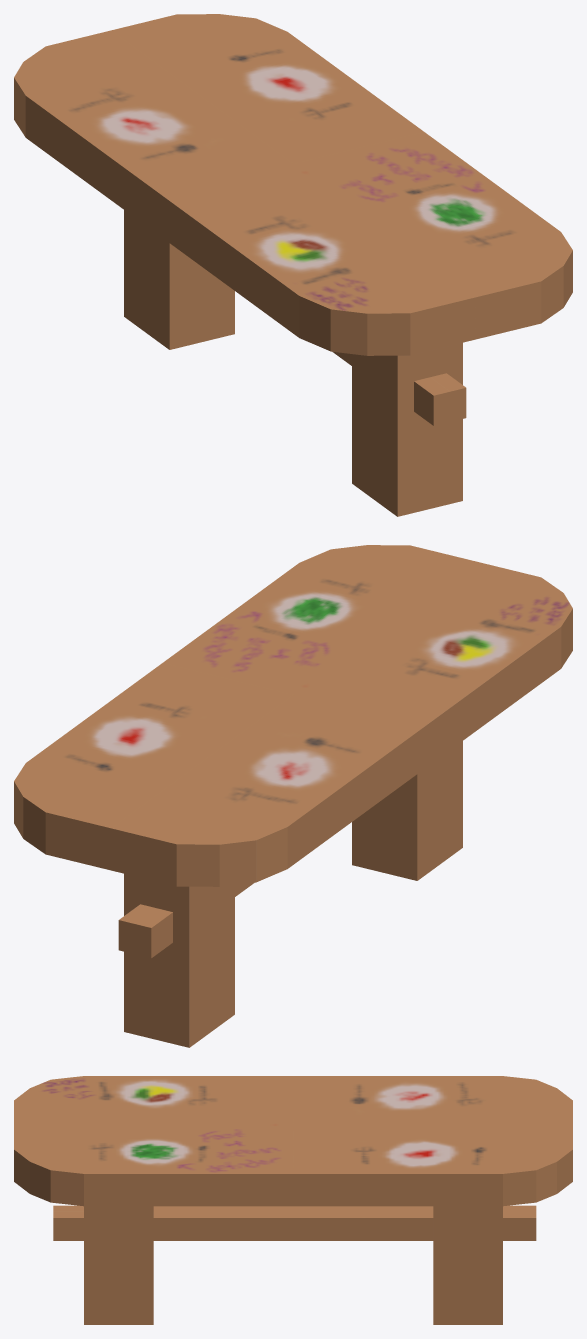
Rendered from large_dinnertable.fbx.
The picture shows the model from 3 angles, top to bottom: view 1: azimuth 30°, elevation 25°; view 2: azimuth 150°, elevation 25°; view 3: azimuth 270°, elevation 25°; orthographic projection. The views are drawn at different scales.
Visible parts, largest first — view 1: Cube; view 2: Cube; view 3: Cube.
Part boxes in pixels (left/top/right/bottom): Cube: left=14, top=14, right=572, bottom=516; Cube: left=14, top=545, right=572, bottom=1047; Cube: left=14, top=1076, right=572, bottom=1324.
Size of the model in its own units: 515 by 461 by 1243.
